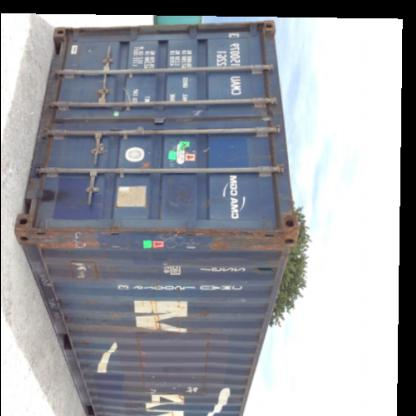Damage: (149, 221, 294, 252), (25, 222, 126, 254), (195, 328, 217, 394), (131, 108, 195, 128), (136, 328, 150, 410), (38, 178, 78, 206), (82, 366, 102, 408), (56, 292, 74, 328), (160, 196, 194, 214), (88, 259, 106, 287), (152, 303, 166, 339), (194, 302, 218, 322), (186, 144, 214, 158), (83, 42, 102, 62), (79, 340, 95, 350)
